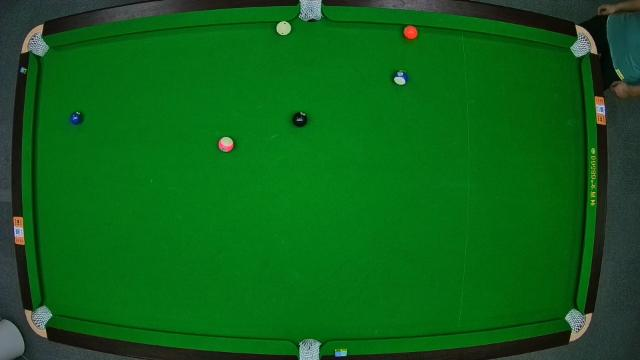bag1: (28, 34, 46, 56)
bag2: (300, 1, 324, 21)
bag3: (572, 37, 592, 55)
bag4: (31, 306, 49, 326)
bag5: (296, 340, 322, 360)
bag6: (566, 310, 586, 332)
ball0: (276, 20, 292, 36)
ball10: (392, 69, 408, 85)
ball12: (218, 136, 234, 154)
ball2: (69, 110, 85, 126)
ball5: (404, 26, 418, 40)
ball8: (291, 111, 309, 127)
